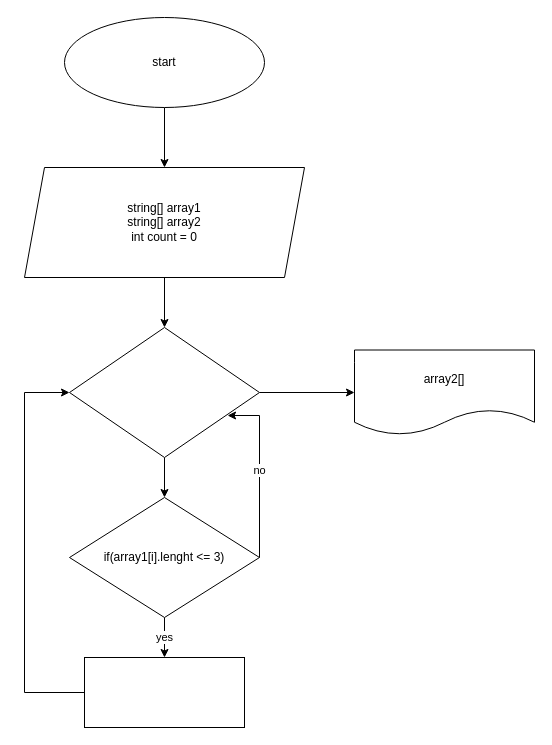
Some shapes in this 552 by 745 pixel diagram are drawn without their labels. Each missing label, with the centre of its shape:
"array2[count] = array1[i] count++" belongs at (164,692).
"for(int i = 0; i < array1.lenght; i++)" belongs at (164,392).
